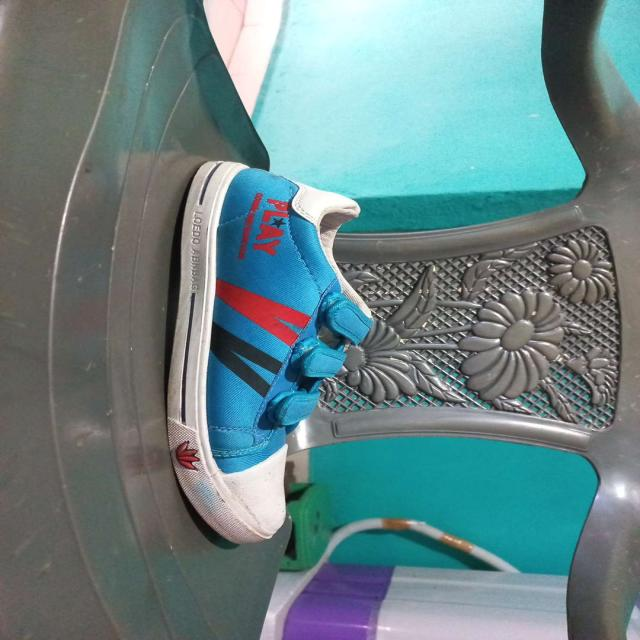shoe: (168, 159, 375, 548)
